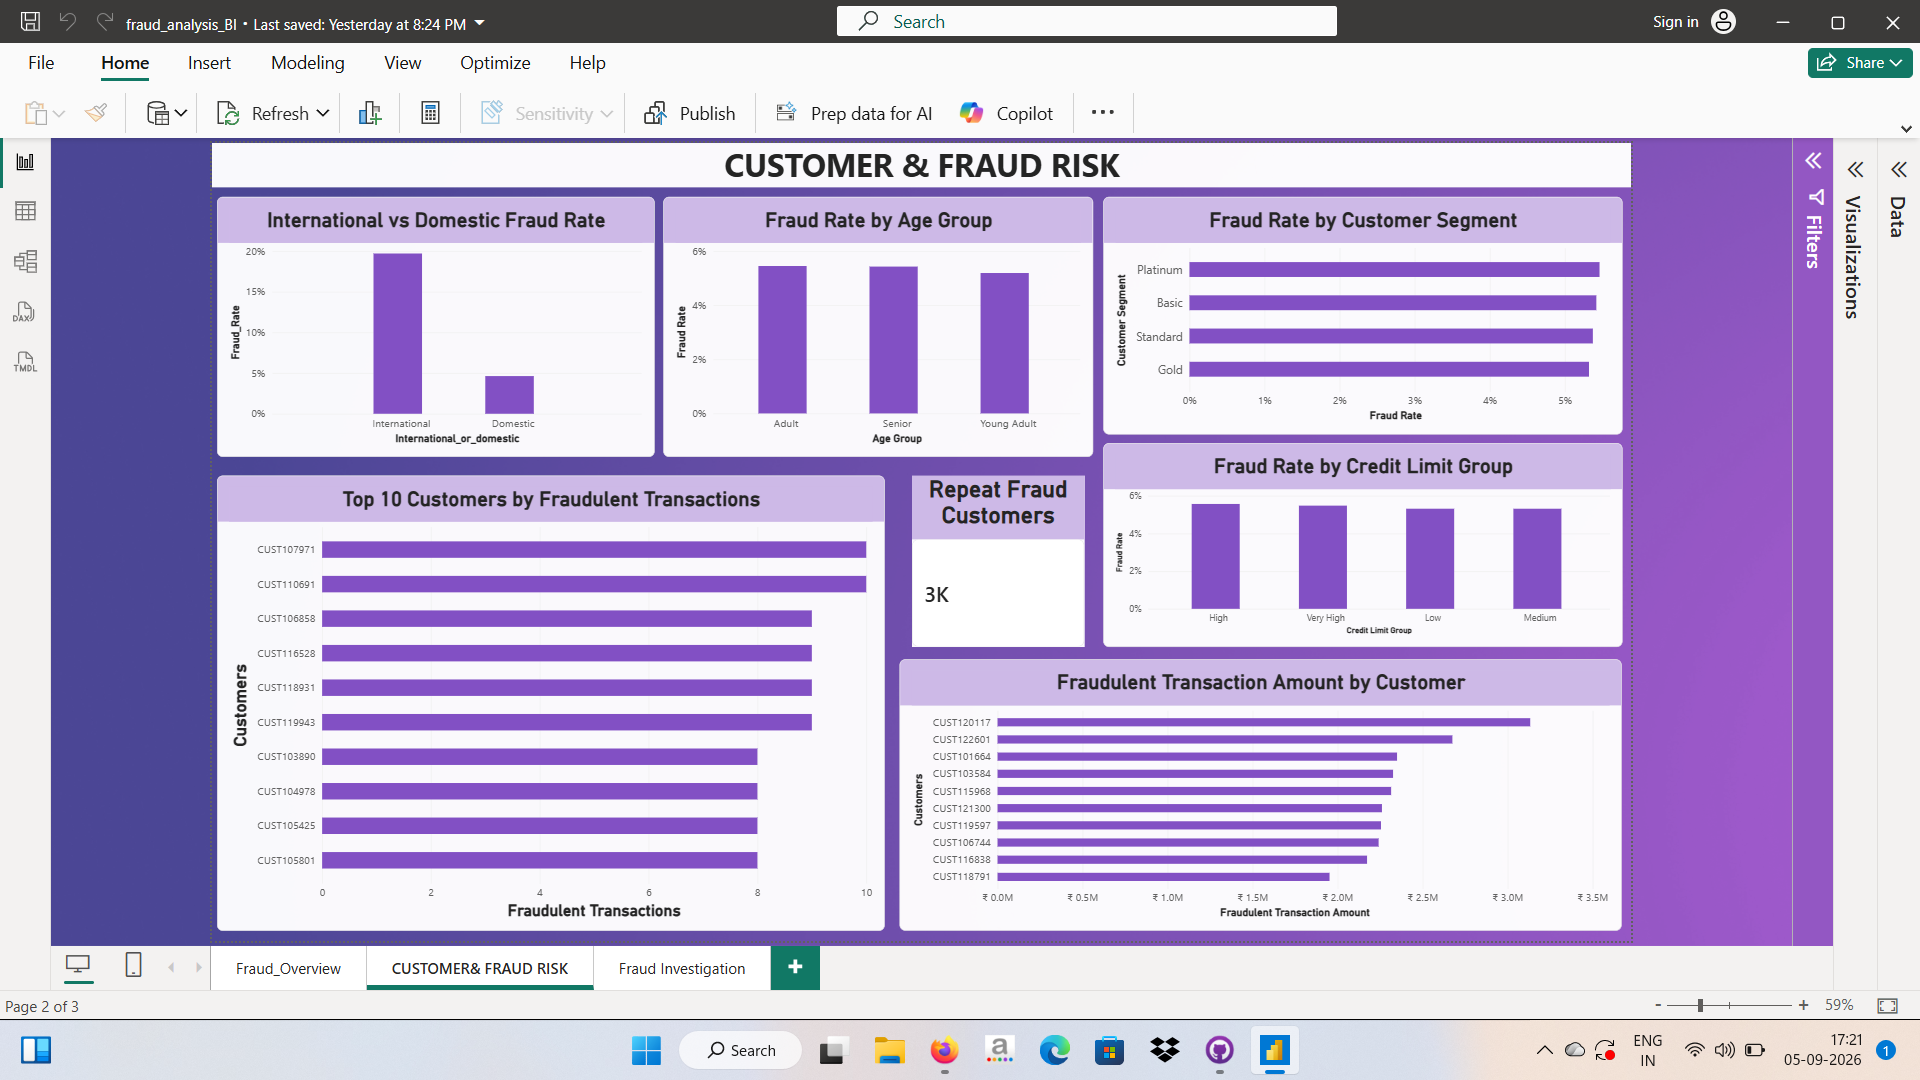

The dashboard page shown, as its layout file describes it:
{"tool":"powerbi","page":{"name":"CUSTOMER& FRAUD RISK","canvas":[1920,1080],"ordinal":1},"visuals":[{"type":"textbox","box":[0,0,1920.4,59.9],"z":0},{"type":"clusteredColumnChart","title":"International vs Domestic Fraud Rate","fields":{"Category":["fraud_analysis transaction_data.International_or_domestic"],"Y":["fraud_analysis transaction_data.Fraud_Rate"]},"box":[6.8,72.7,591.7,352.1],"z":1000},{"type":"clusteredColumnChart","title":"Fraud Rate by Age Group","fields":{"Y":["fraud_analysis transaction_data.Fraud_Rate"],"Category":["fraud_analysis customer_data.Age_Group"]},"box":[610.3,72.7,581.6,351.7],"z":2000},{"type":"clusteredBarChart","title":"Fraud Rate by Customer Segment","fields":{"Category":["fraud_analysis customer_data.Customer_Segment"],"Y":["fraud_analysis transaction_data.Fraud_Rate"]},"box":[1205.2,72.6,702.4,321.3],"z":3000},{"type":"clusteredBarChart","title":"Top 10 Customers by Fraudulent Transactions","fields":{"Y":["Sum(fraud_analysis transaction_data.Fraud_Flag)"],"Category":["fraud_analysis transaction_data.Customer_ID"]},"box":[6.7,449.2,903.3,616.1],"z":4000},{"type":"clusteredColumnChart","title":"Fraud Rate by Credit Limit Group","fields":{"Y":["fraud_analysis transaction_data.Fraud_Rate"],"Category":["fraud_analysis cards_data.Credit_Limit_Group"]},"box":[1205.2,406.6,702.4,275.9],"z":5000},{"type":"clusteredBarChart","title":"Fraudulent Transaction Amount by Customer","fields":{"Category":["fraud_analysis transaction_data.Customer_ID"],"Y":["fraud_analysis transaction_data.Fraudulent_Transaction_Amount"]},"box":[930.1,698,976.8,367.3],"z":6000},{"type":"cardVisual","title":"Repeat Fraud Customers","fields":{"Data":["fraud_analysis transaction_data.Repeat Fraud Customers"]},"box":[946.8,449.7,233.3,231.6],"z":7000}]}

Visuals, with their boxes on the page's 1920x1080 design canvas (x1, y1, x2, y2). These are canvas units, not pixel positions in the 1920x1080 screenshot, which may show the page scaled, cropped or inside an application window:
textbox: {"x1": 0, "y1": 0, "x2": 1920, "y2": 60}
"International vs Domestic Fraud Rate" clusteredColumnChart: {"x1": 7, "y1": 73, "x2": 598, "y2": 425}
"Fraud Rate by Age Group" clusteredColumnChart: {"x1": 610, "y1": 73, "x2": 1192, "y2": 424}
"Fraud Rate by Customer Segment" clusteredBarChart: {"x1": 1205, "y1": 73, "x2": 1908, "y2": 394}
"Top 10 Customers by Fraudulent Transactions" clusteredBarChart: {"x1": 7, "y1": 449, "x2": 910, "y2": 1065}
"Fraud Rate by Credit Limit Group" clusteredColumnChart: {"x1": 1205, "y1": 407, "x2": 1908, "y2": 682}
"Fraudulent Transaction Amount by Customer" clusteredBarChart: {"x1": 930, "y1": 698, "x2": 1907, "y2": 1065}
"Repeat Fraud Customers" cardVisual: {"x1": 947, "y1": 450, "x2": 1180, "y2": 681}
